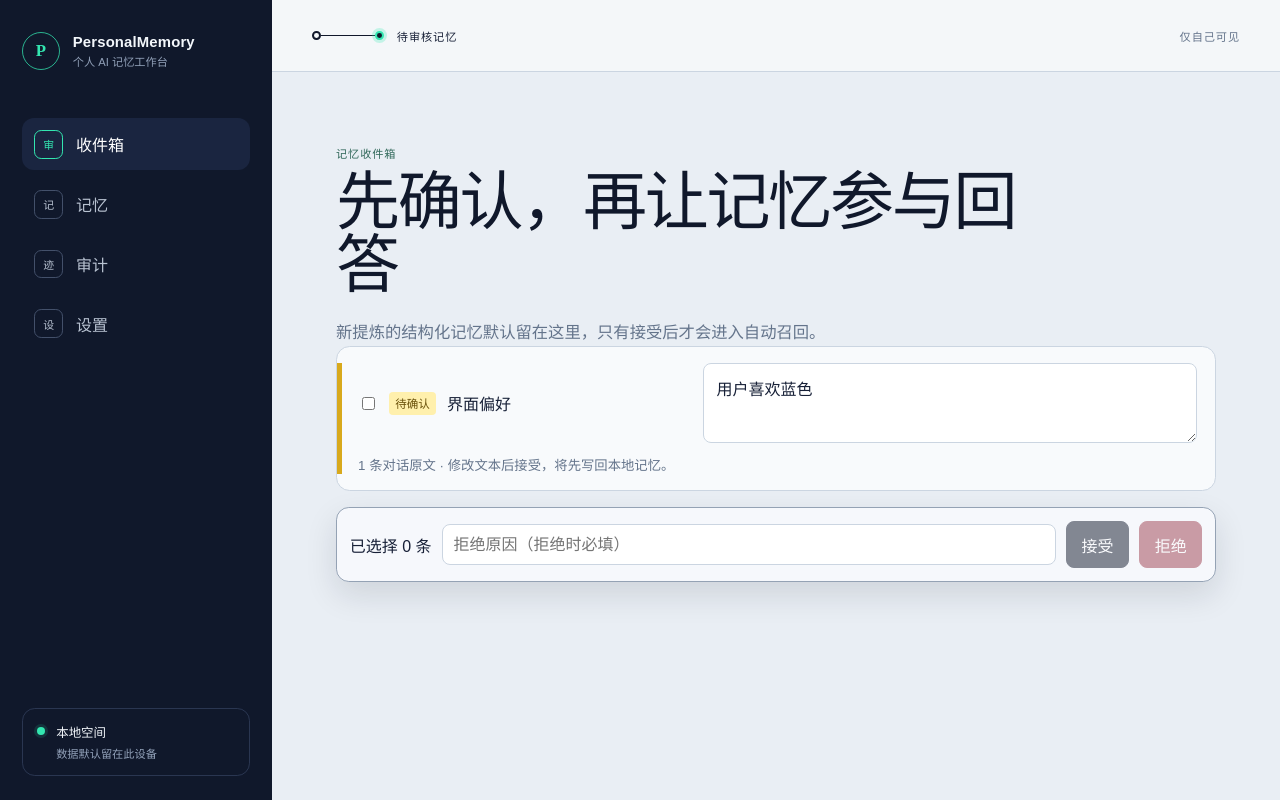
Test: PersonalMemory Web › reviews a corrected pending memory before it can be recalled
This screenshot has width=1280, height=800.
Step 1. Click the checkbox → (369, 403), box [362,397,375,410]
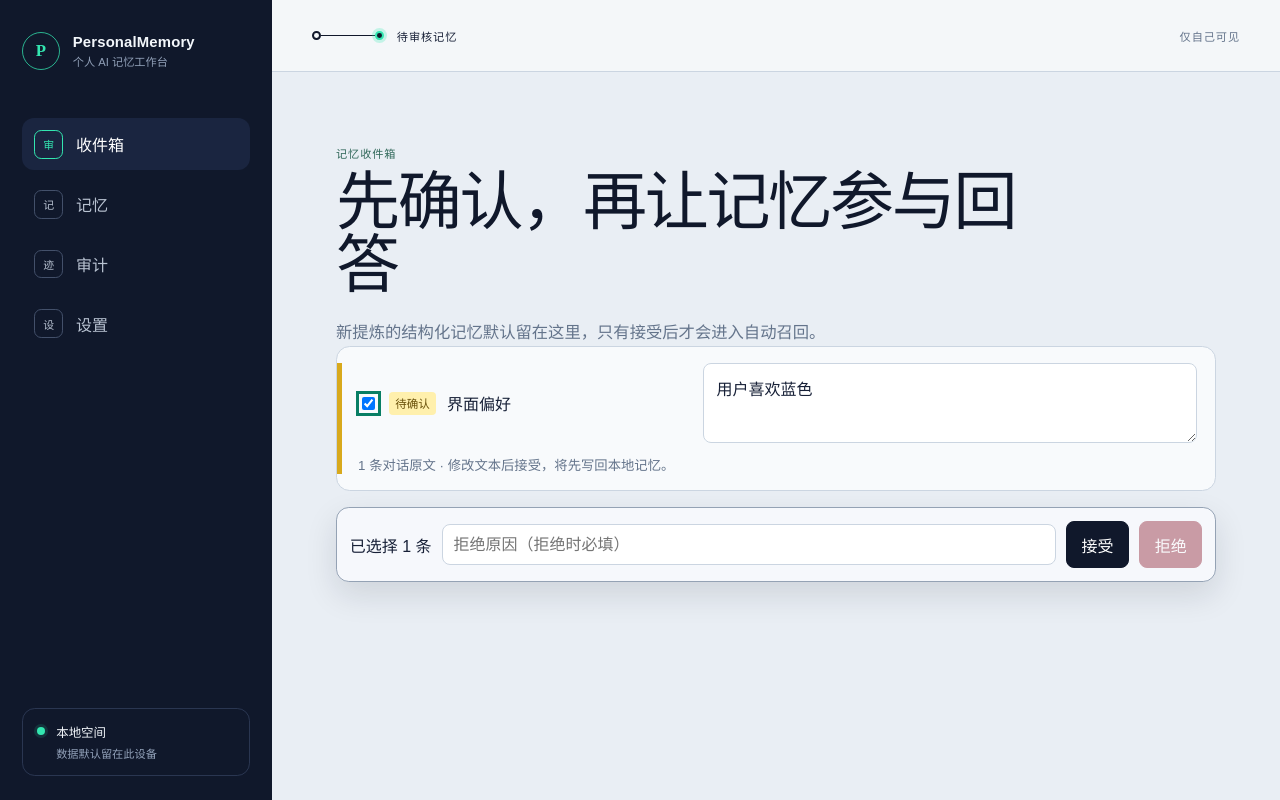
Step 2. Replace the text in the text box named "修改 界面偏好" with "用户喜欢墨绿色" → (950, 403), box [703,363,1197,443]
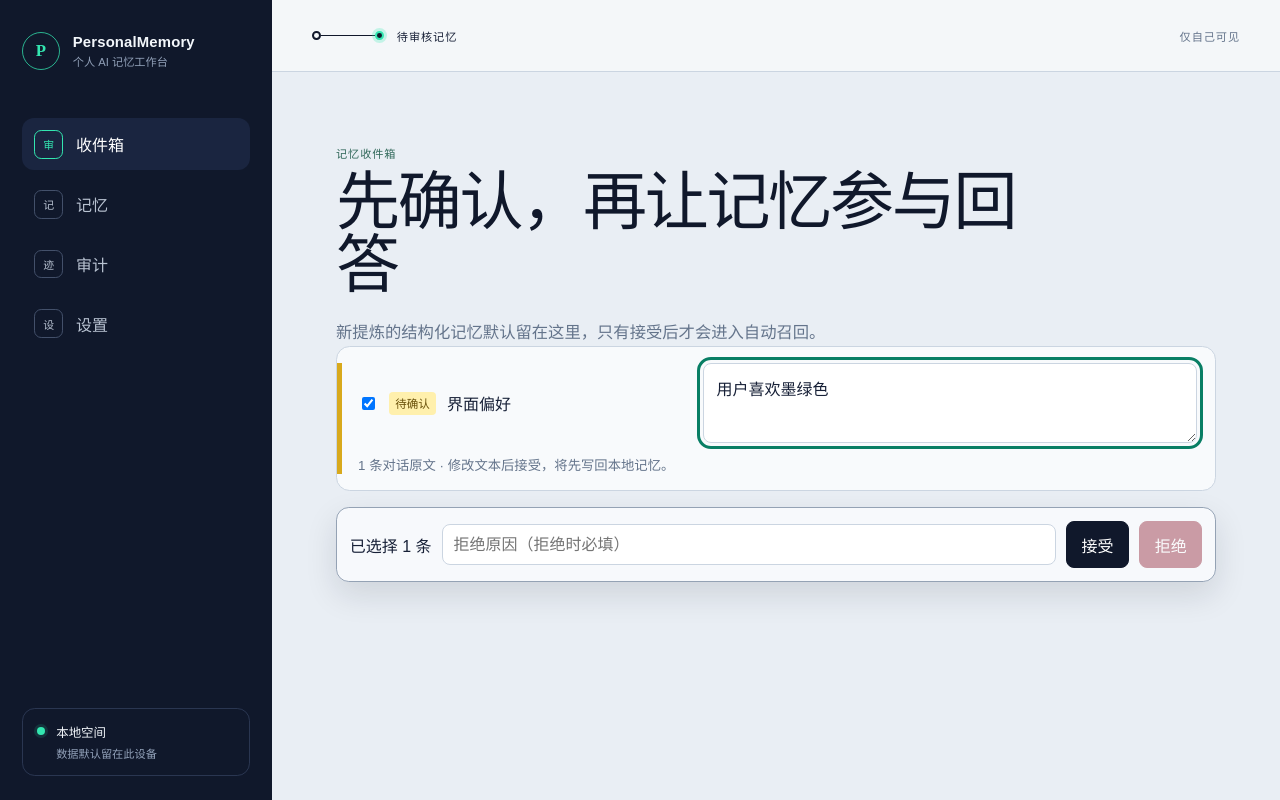
Step 3. Click the button "接受" → (1098, 545), box [1066,521,1129,568]
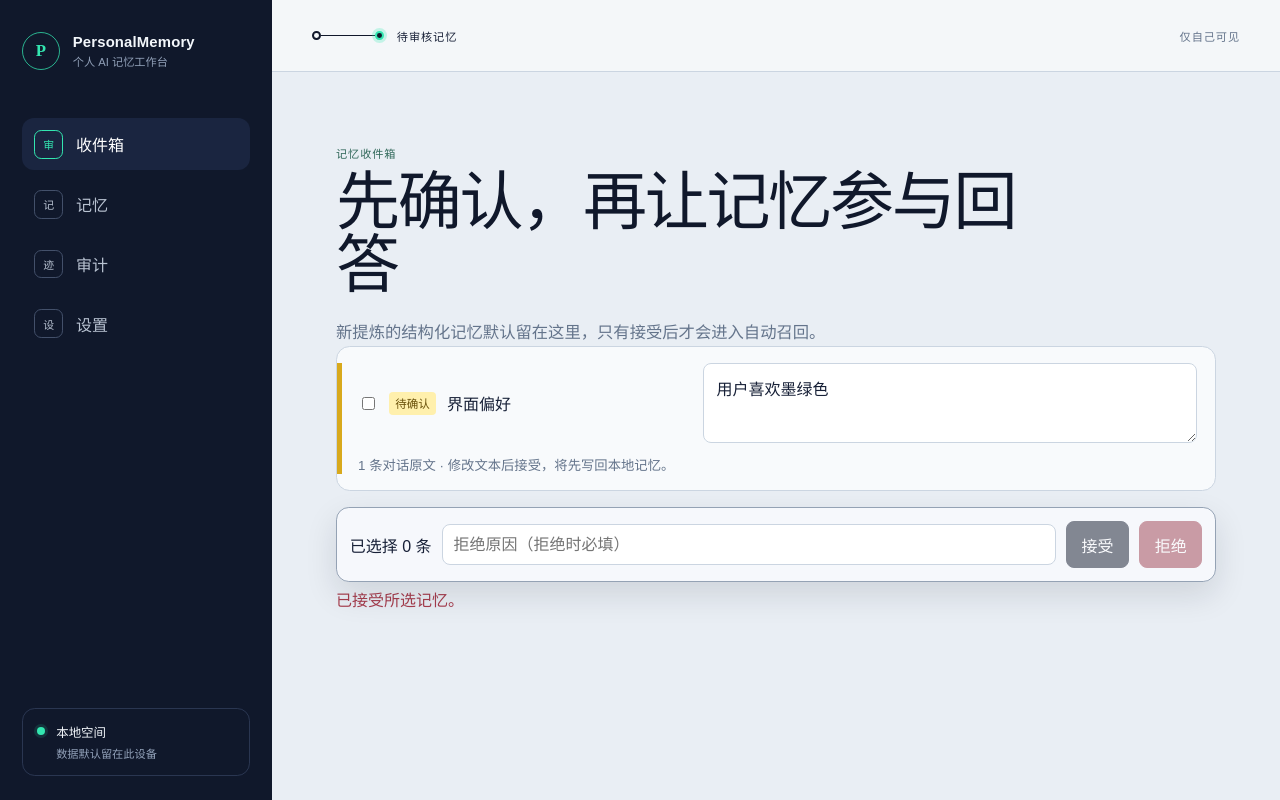
Check: the text "已接受所选记忆。" is shown, box [336,592,464,609]
